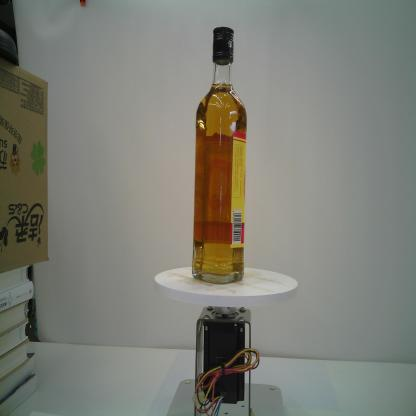Seasoner: (191, 26, 248, 285)
